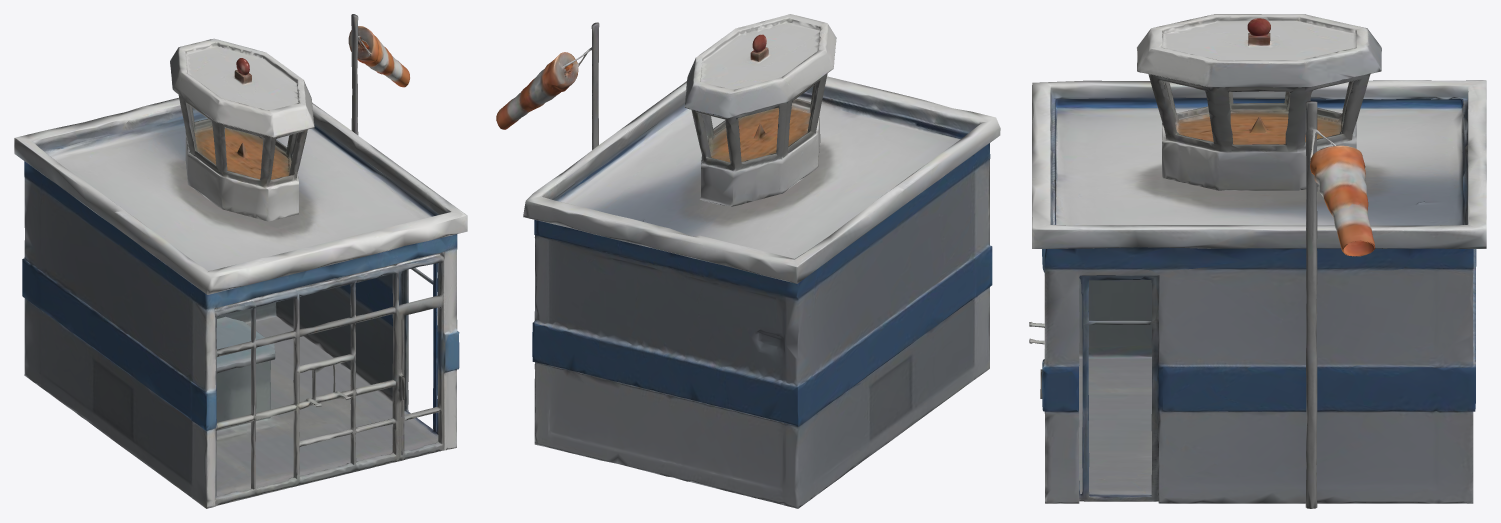
The model's file is aero_quiosque.glb.
3 renders of one model, left to right at view 1: azimuth 30°, elevation 25°; view 2: azimuth 150°, elevation 25°; view 3: azimuth 270°, elevation 25°, orthographic. The views are drawn at different scales.
Visible parts, largest first — view 1: tripo_node_6a5c6a5a-4fd7-409e-812b-c74569726397; view 2: tripo_node_6a5c6a5a-4fd7-409e-812b-c74569726397; view 3: tripo_node_6a5c6a5a-4fd7-409e-812b-c74569726397.
Boxes of the visible parts, x1,y1,x2,y2 form: tripo_node_6a5c6a5a-4fd7-409e-812b-c74569726397: (14,14,467,508); tripo_node_6a5c6a5a-4fd7-409e-812b-c74569726397: (496,14,1000,508); tripo_node_6a5c6a5a-4fd7-409e-812b-c74569726397: (1029,14,1486,508).
Bounding box in the file's own units: 1 × 1 × 1.
1 material, 1 textured.
